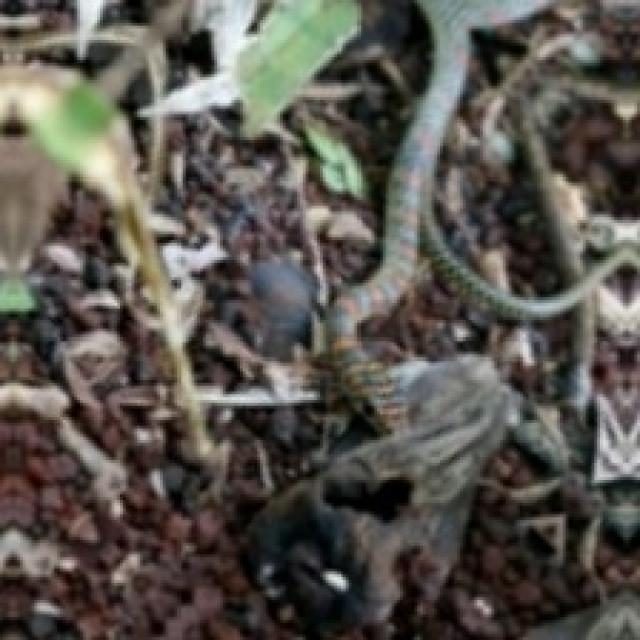paradise tree snake: (326, 0, 637, 371), (437, 131, 557, 294), (229, 0, 357, 134)
